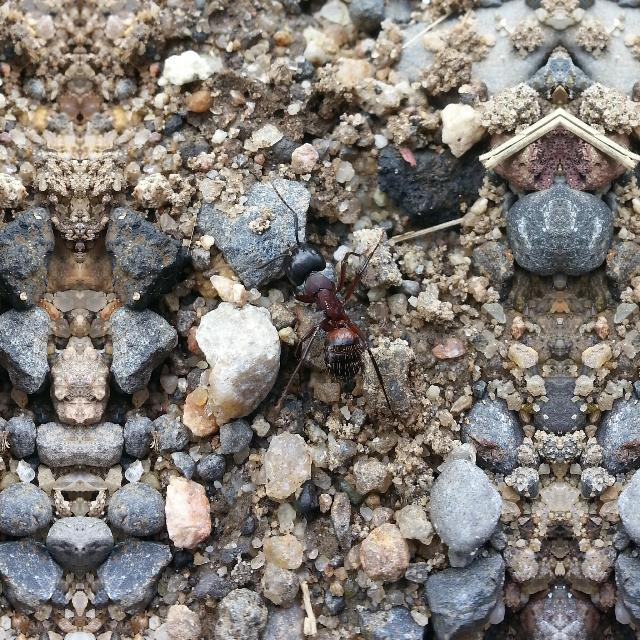Camponotus: (266, 210, 384, 398)
